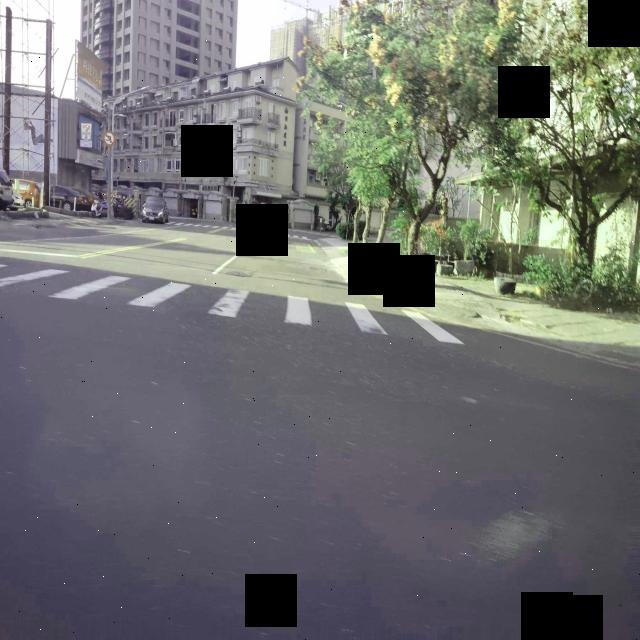zebra crossing: (0, 261, 469, 344), (167, 221, 310, 240)
